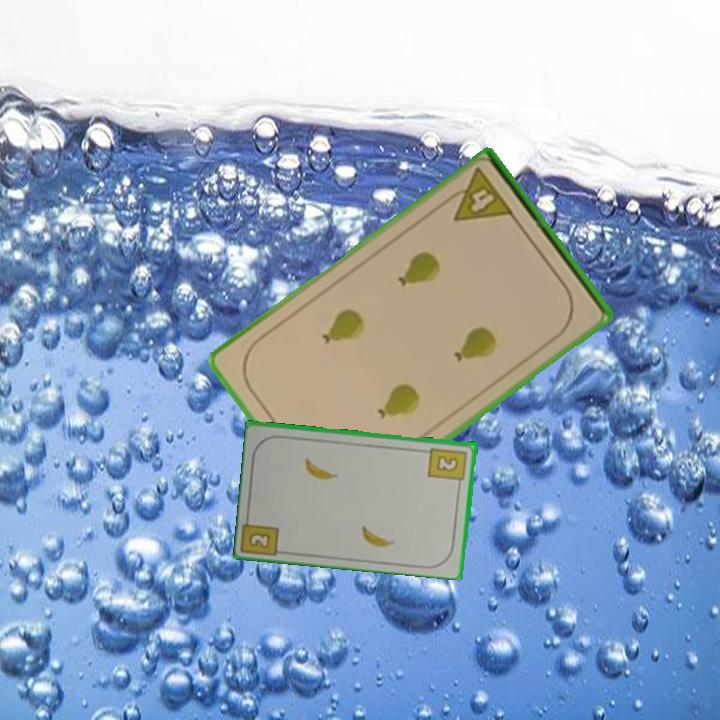2b: (425, 444, 470, 489), (245, 529, 273, 551)
4p: (439, 164, 516, 225)
